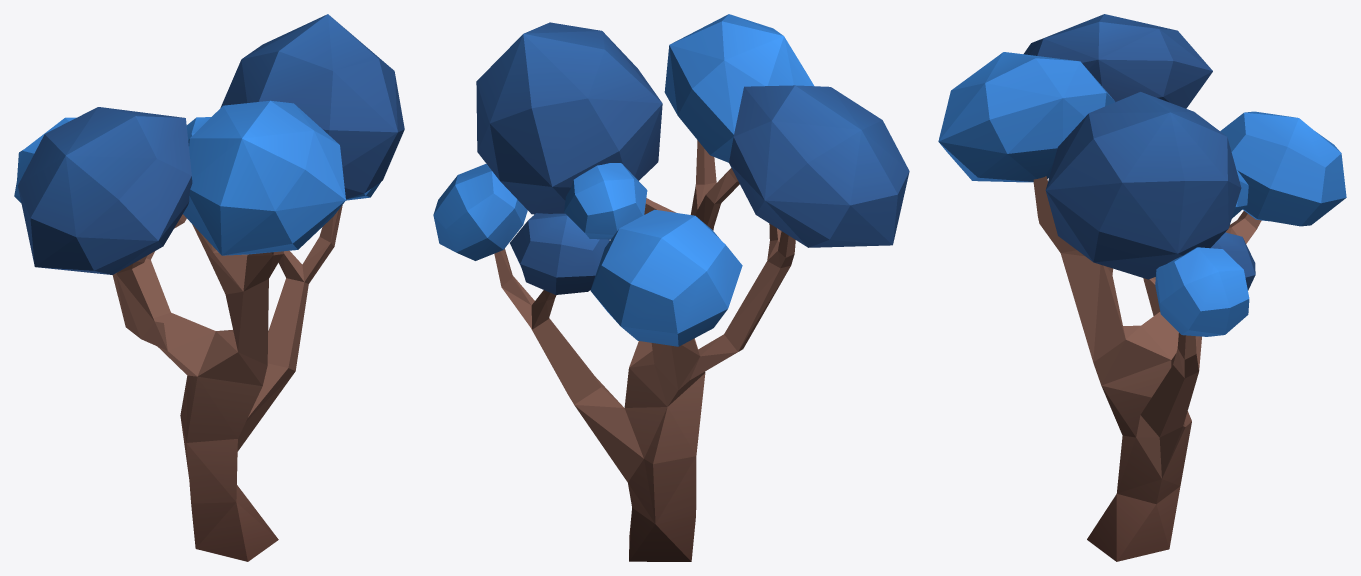
Rendered from BlueTree3.fbx.
3 renders of one model, left to right at view 1: azimuth 30°, elevation 25°; view 2: azimuth 150°, elevation 25°; view 3: azimuth 270°, elevation 25°, orthographic. The views are drawn at different scales.
Parts seen in each view (by area): view 1: BlueTree3; view 2: BlueTree3; view 3: BlueTree3.
Boxes of the visible parts, left/top/right/bottom form: BlueTree3: left=14, top=14, right=404, bottom=561; BlueTree3: left=433, top=14, right=909, bottom=561; BlueTree3: left=938, top=14, right=1346, bottom=561.
Size of the model in its own units: 384 by 450 by 342.
